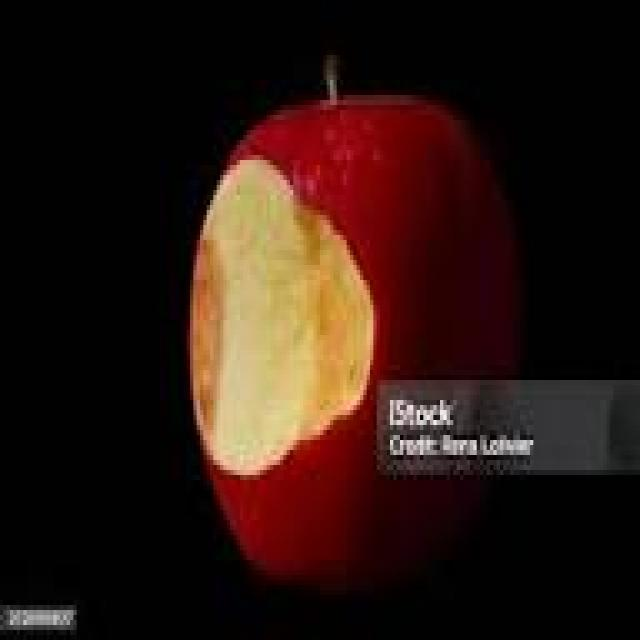Used Apple: (190, 98, 516, 588)
